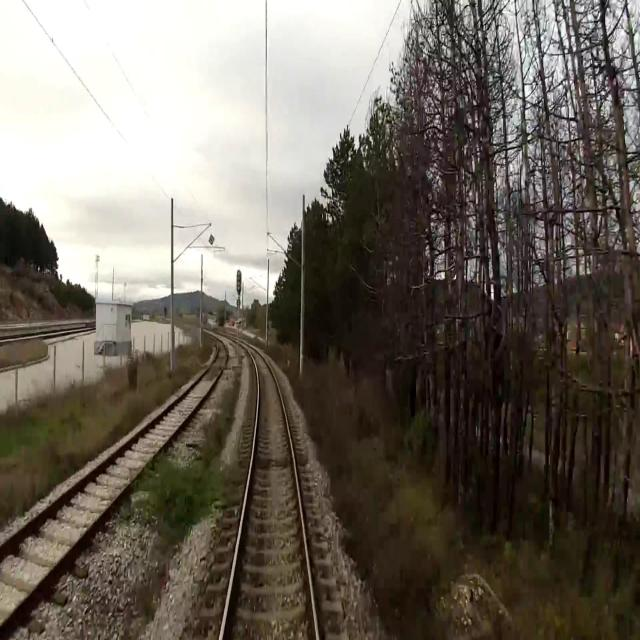rail-track: (0, 337, 225, 619), (223, 347, 314, 639)
